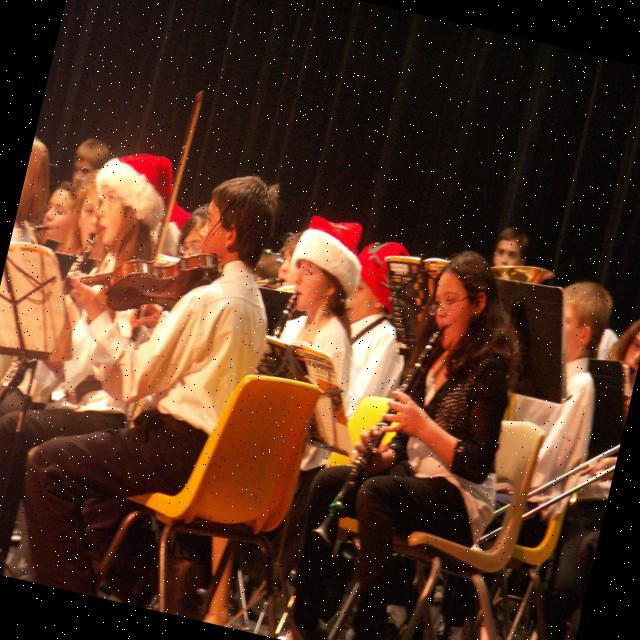clarinet: (0, 209, 109, 463), (324, 310, 446, 536), (249, 285, 301, 381), (12, 216, 54, 242)
violin: (38, 216, 226, 340)
